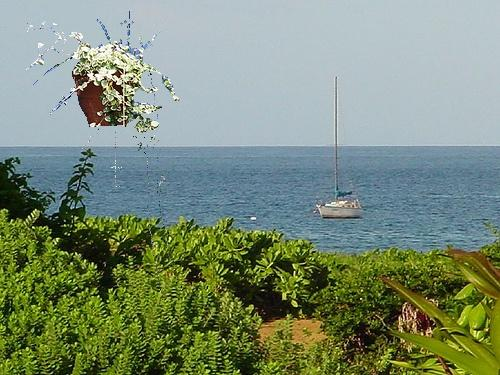tampered: (27, 12, 182, 315)
